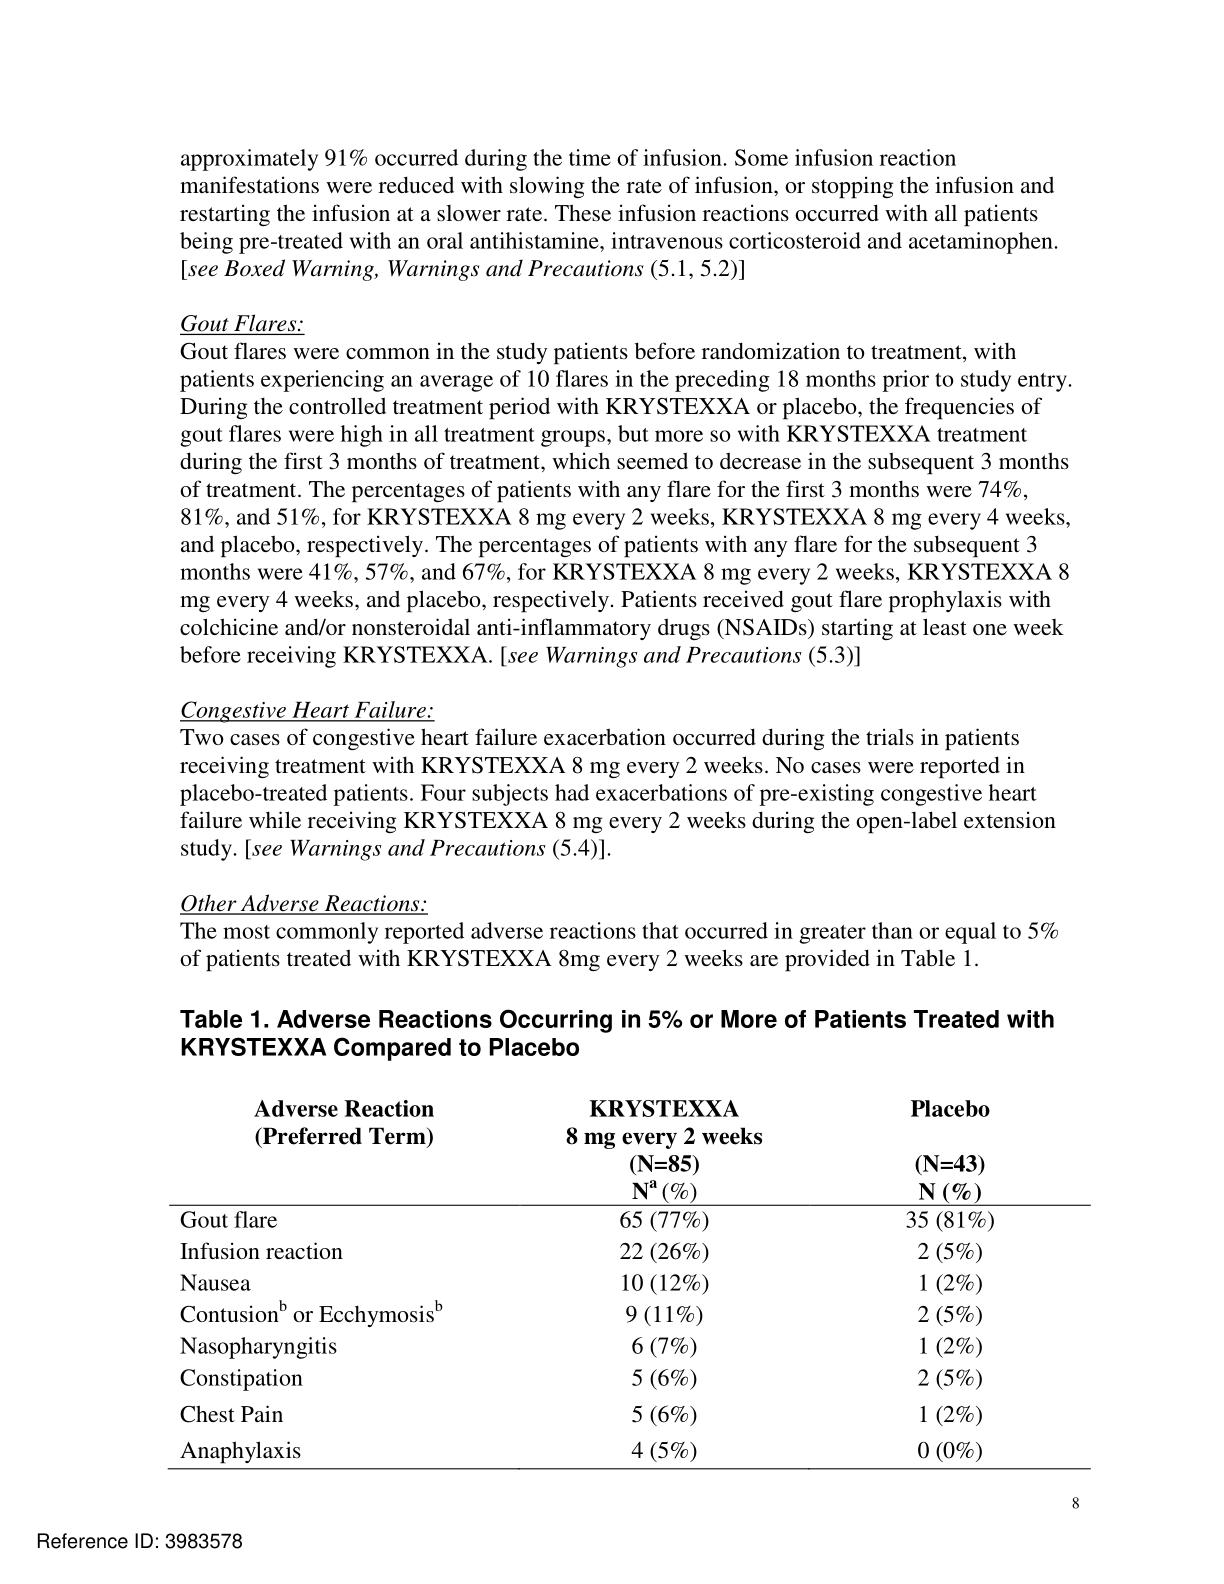partial_lined: (168, 1088, 1092, 1473)
